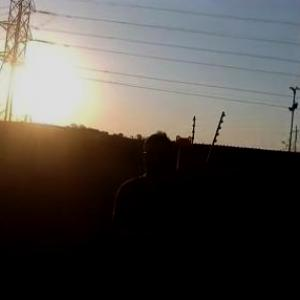follow: (105, 127, 195, 299)
